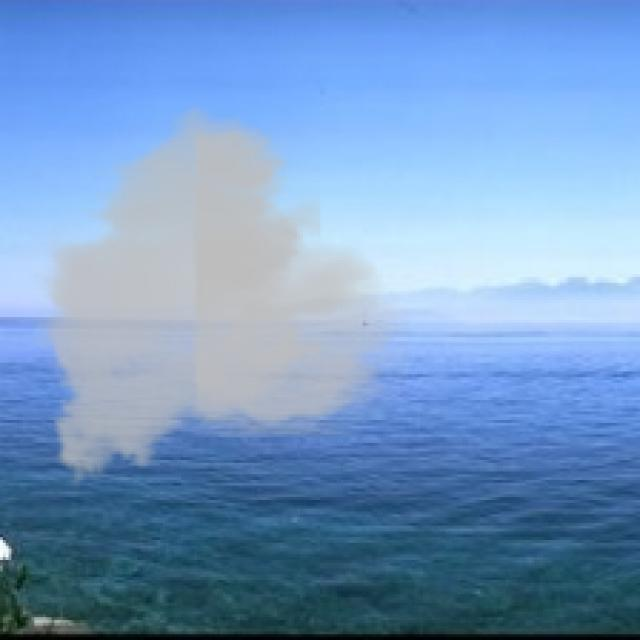smoke: (29, 94, 408, 497)
